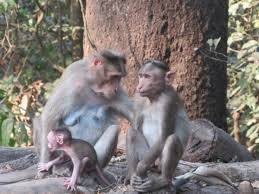monkey: (108, 48, 217, 181), (43, 44, 132, 191)
